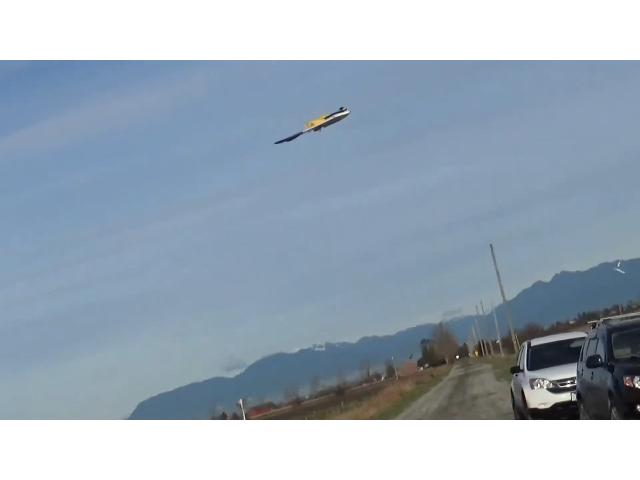Anti-Drone: (274, 107, 352, 145)
